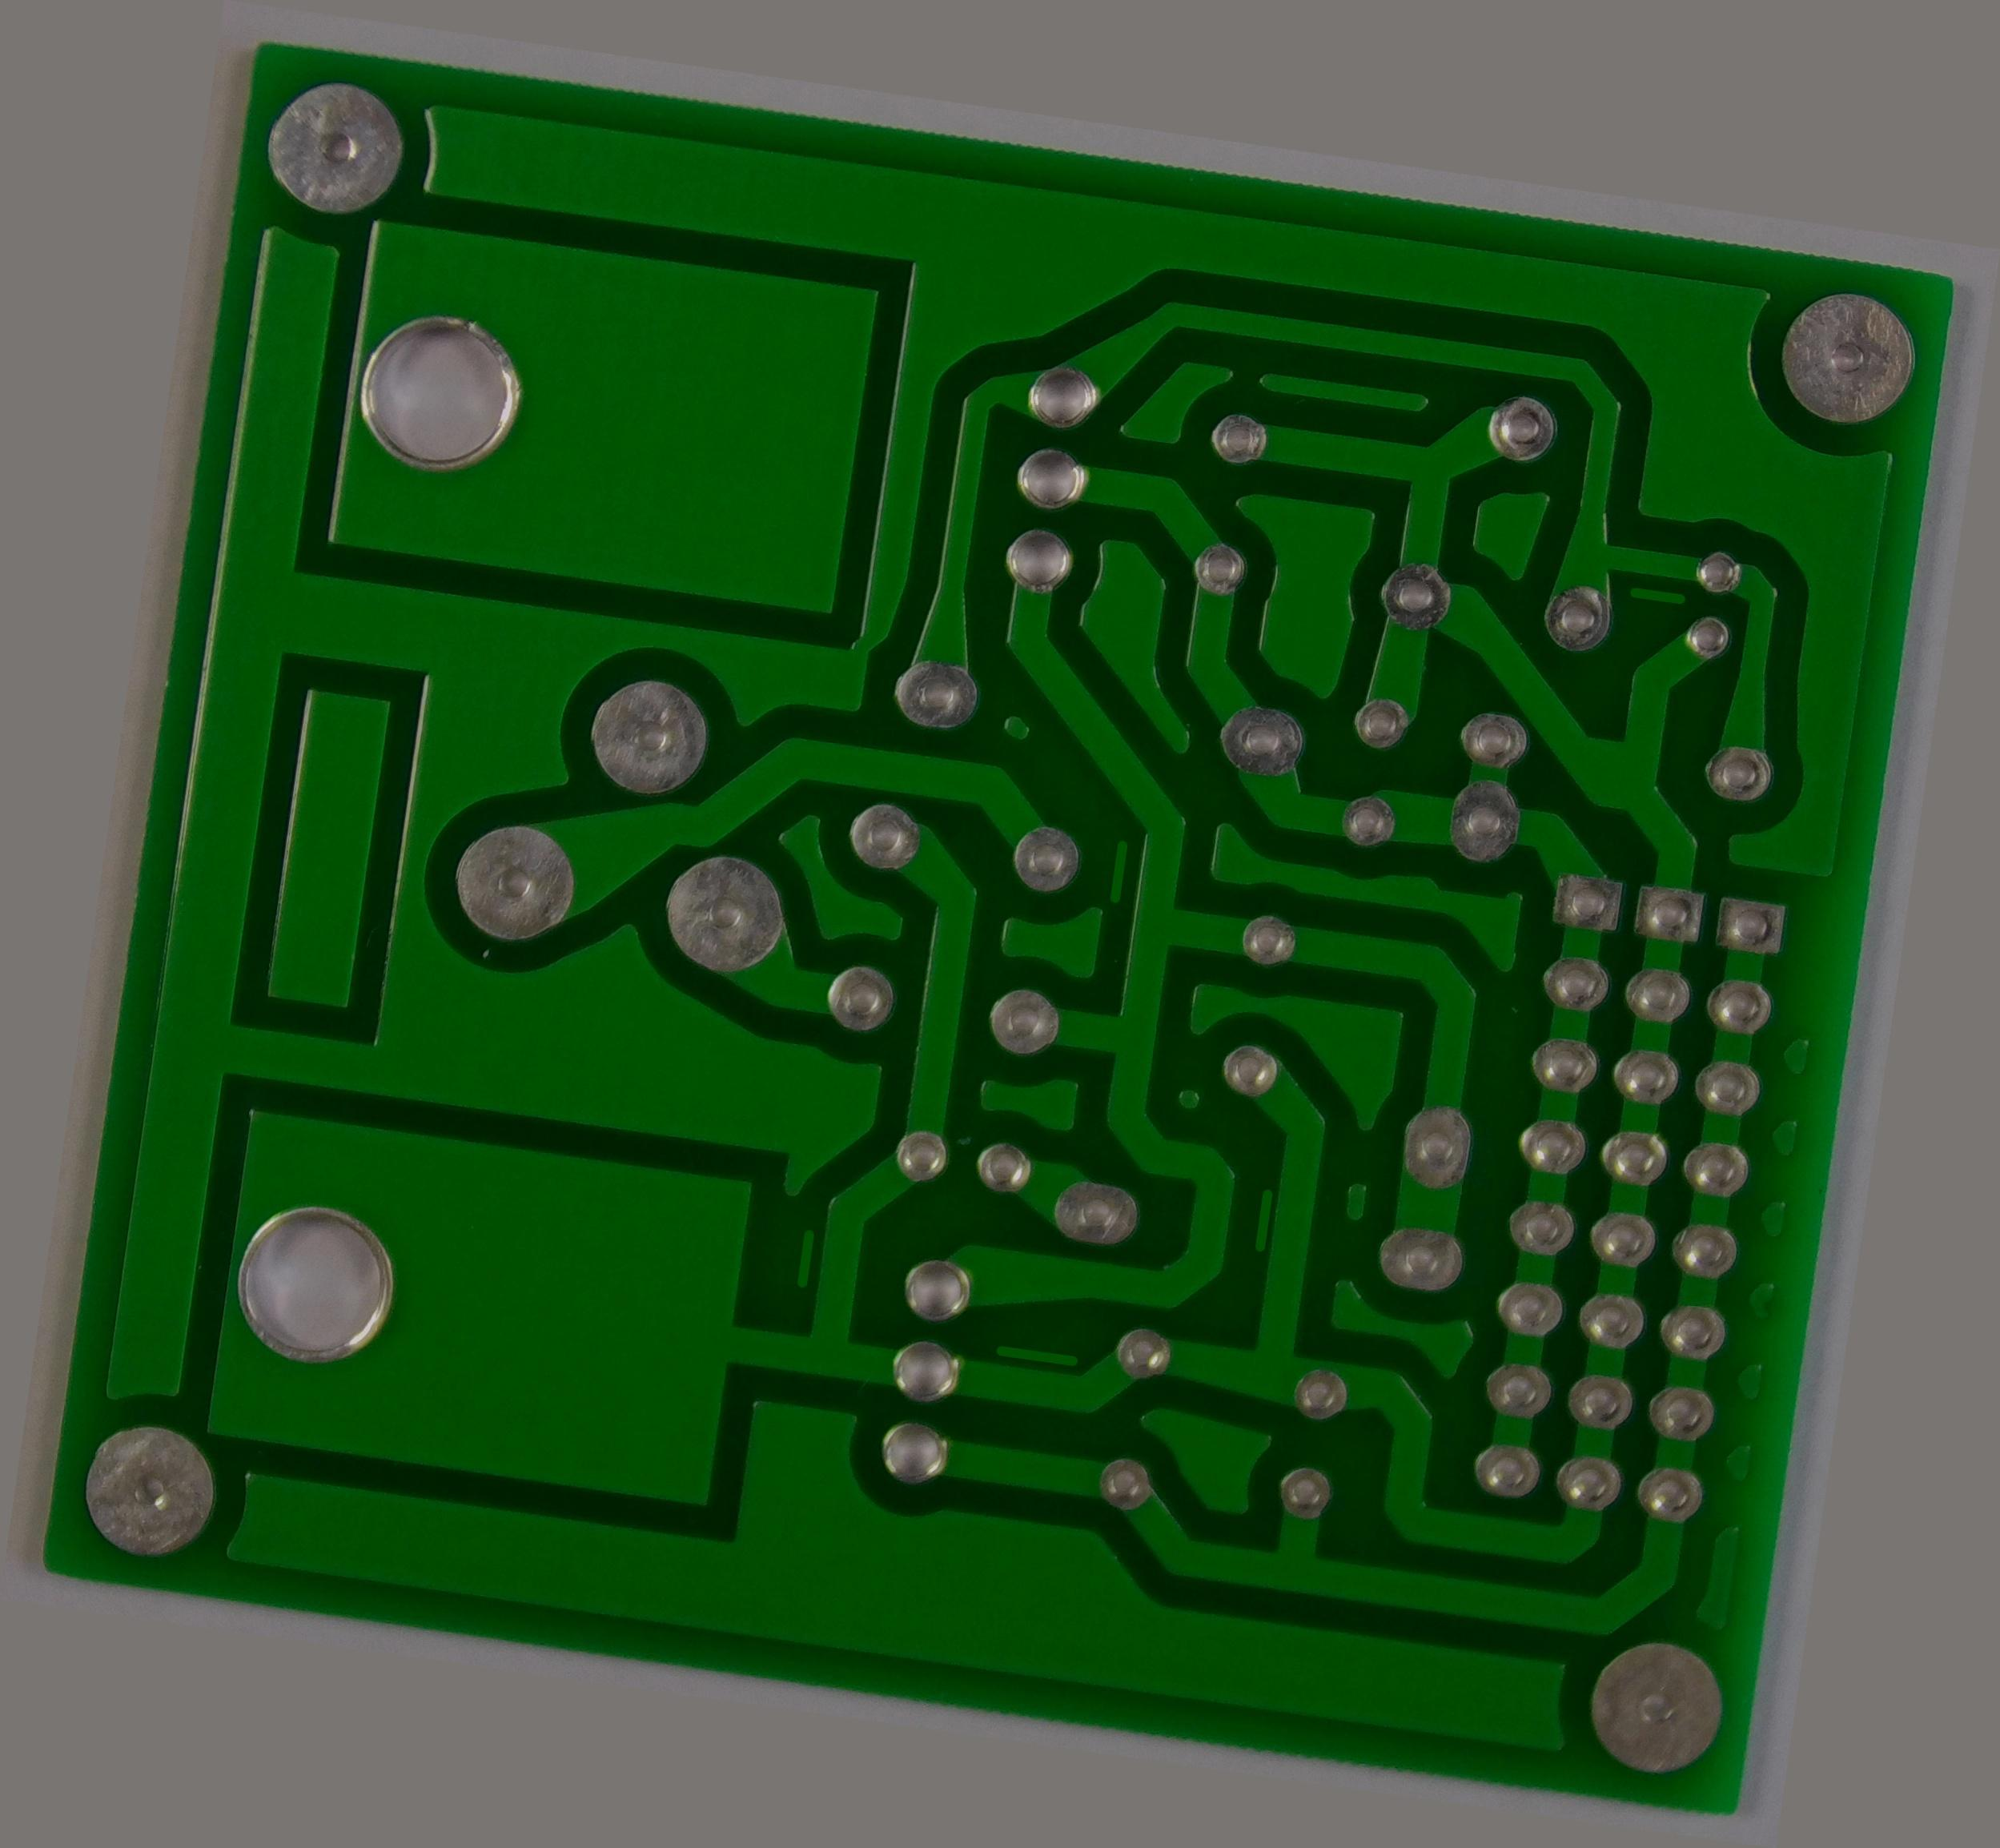spurious_copper: (1233, 1167, 1293, 1268), (984, 1331, 1087, 1388), (1089, 819, 1150, 914), (1618, 568, 1702, 625), (777, 1212, 831, 1301)
